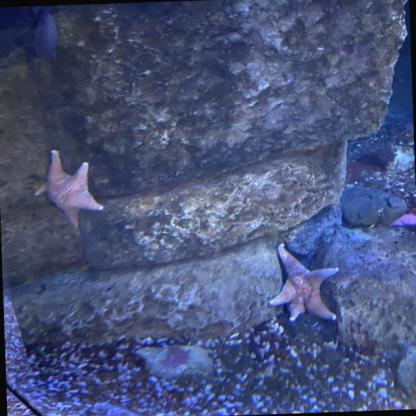starfish: (32, 148, 104, 231), (267, 242, 340, 323)
